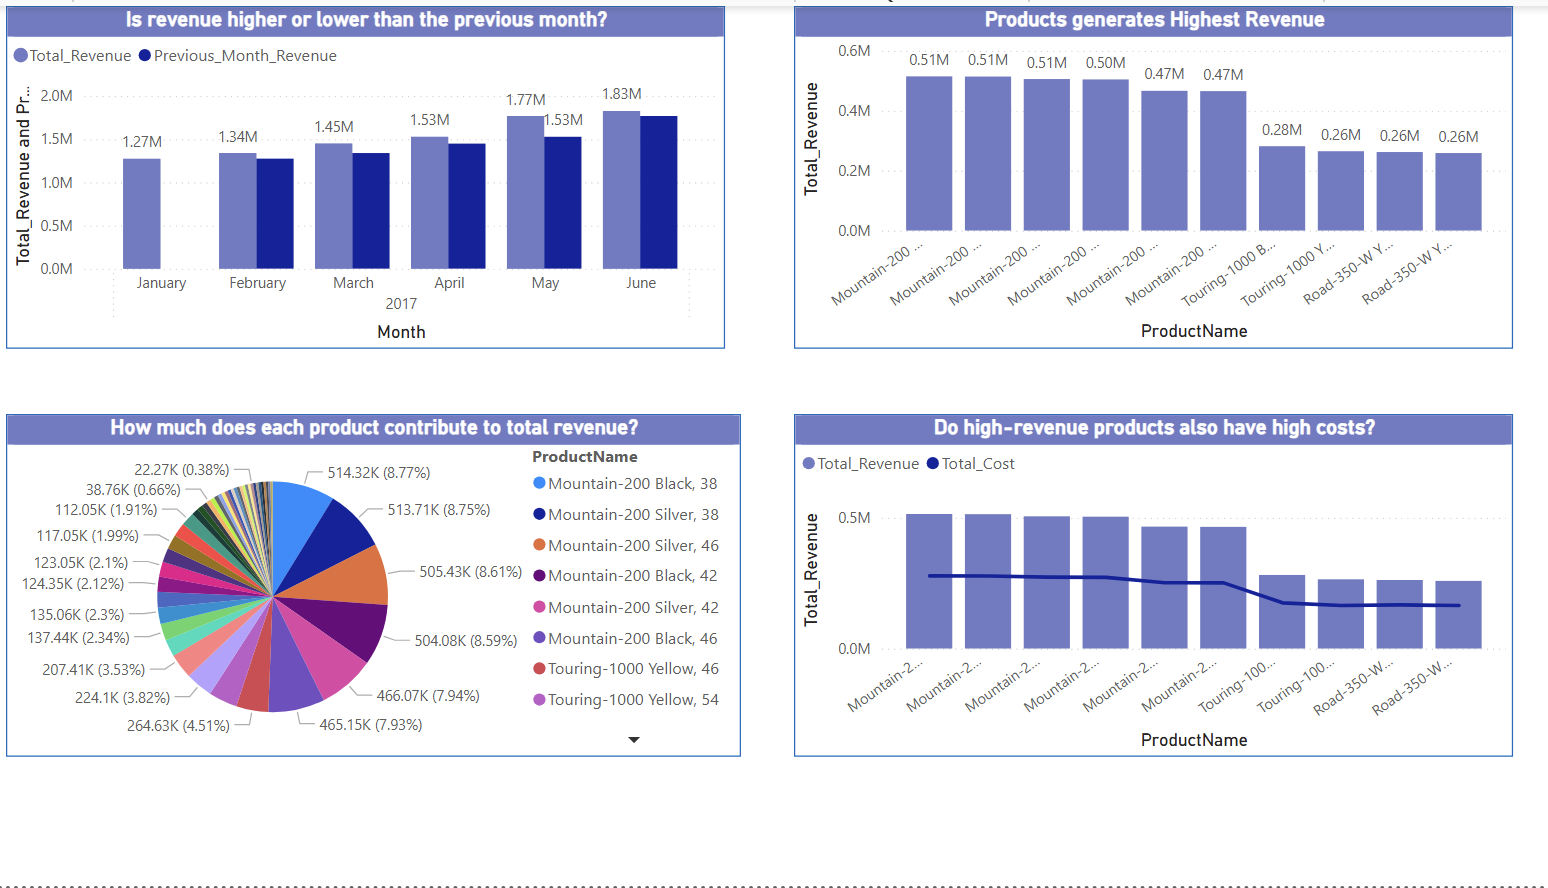

What the dashboard file says about the page in this screenshot:
{"tool":"powerbi","page":{"name":"Page 2","canvas":[1280,720],"ordinal":1},"visuals":[{"type":"clusteredColumnChart","title":"Is revenue higher or lower than the previous month?","fields":{"Y":["AdventureWorks_Sales_2017.Total_Revenue","AdventureWorks_Sales_2017.Previous_Month_Revenue"],"Category":["AdventureWorks_Calendar.Date.Variation.Date Hierarchy.Year","AdventureWorks_Calendar.Date.Variation.Date Hierarchy.Month"]},"box":[9.9,0,588.7,280.3],"z":0},{"type":"columnChart","title":" Products generates Highest Revenue","fields":{"Category":["AdventureWorks_Products.ProductName"],"Y":["AdventureWorks_Sales_2017.Total_Revenue"]},"box":[654.9,0,588.7,280.3],"z":1000},{"type":"pieChart","title":"How much does each product contribute to total revenue? ","fields":{"Y":["AdventureWorks_Sales_2017.Total_Revenue"],"Category":["AdventureWorks_Products.ProductName"],"Series":["AdventureWorks_Products.ProductKey"]},"box":[9.9,333.8,601.4,280.3],"z":2000},{"type":"lineStackedColumnComboChart","title":"Do high-revenue products also have high costs? ","fields":{"Y":["AdventureWorks_Sales_2017.Total_Revenue"],"Category":["AdventureWorks_Products.ProductName"],"Y2":["AdventureWorks_Sales_2017.Total_Cost"]},"box":[654.9,333.8,588.7,280.3],"z":3000}]}

Visuals, with their boxes in screenshot pixels (x1, y1, x2, y2), scaled from the page's 1280x720 canvas onto the 1548x888 screenshot:
"Is revenue higher or lower than the previous month?" clusteredColumnChart: pyautogui.locateOnScreen(12, 0, 724, 346)
" Products generates Highest Revenue" columnChart: pyautogui.locateOnScreen(792, 0, 1504, 346)
"How much does each product contribute to total revenue? " pieChart: pyautogui.locateOnScreen(12, 412, 739, 757)
"Do high-revenue products also have high costs? " lineStackedColumnComboChart: pyautogui.locateOnScreen(792, 412, 1504, 757)
